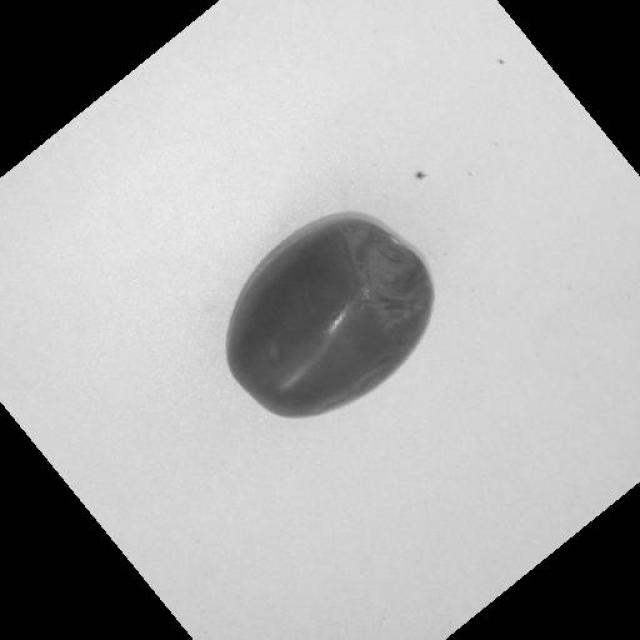Stale_tomato: (202, 232, 442, 392)
